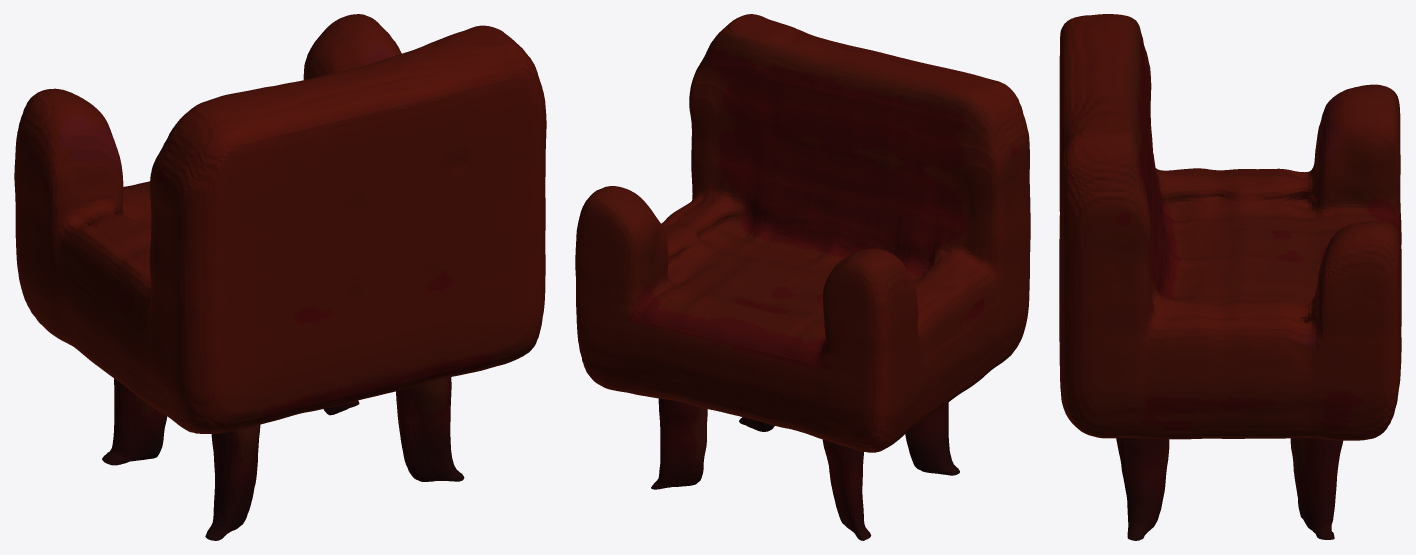
3 renders of one model, left to right at view 1: azimuth 30°, elevation 25°; view 2: azimuth 150°, elevation 25°; view 3: azimuth 270°, elevation 25°, orthographic. The views are drawn at different scales.
Visible parts, largest first — view 1: tmpu0sul4bf.ply; view 2: tmpu0sul4bf.ply; view 3: tmpu0sul4bf.ply.
Part boxes in pixels (x1,y1,x2,y2): tmpu0sul4bf.ply: (14,14,546,540); tmpu0sul4bf.ply: (575,14,1030,540); tmpu0sul4bf.ply: (1059,14,1401,540).
Bounding box in the file's own units: 1.69 × 1.98 × 1.48.
